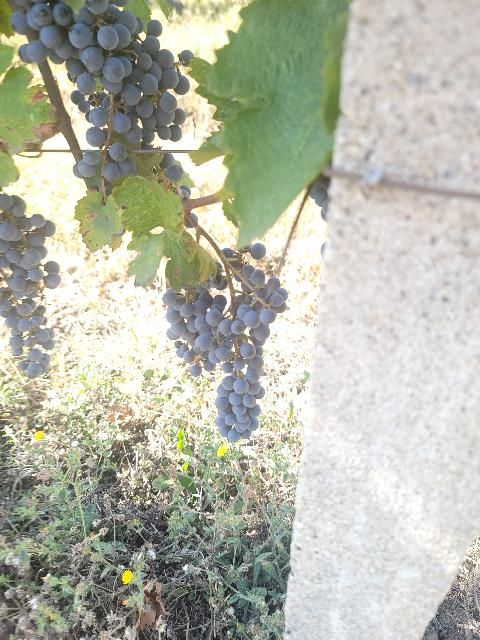grapes: (8, 0, 190, 141), (205, 265, 286, 442), (0, 194, 61, 379), (162, 286, 226, 376)
